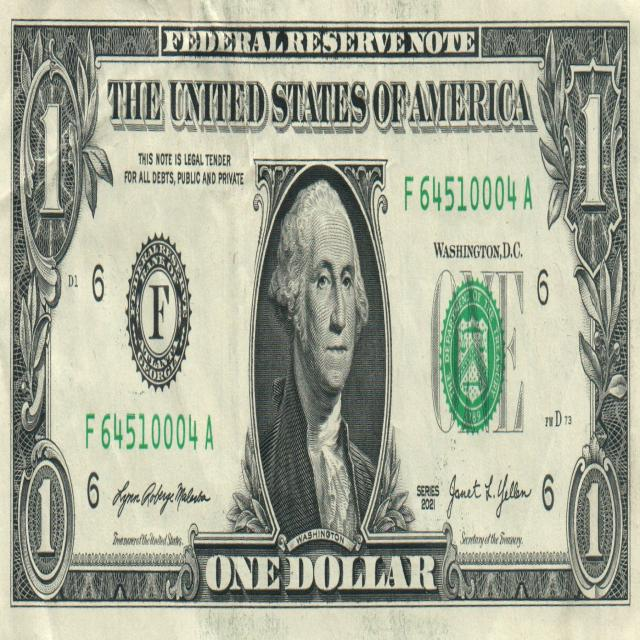SerialNumber: (405, 175, 532, 212), (86, 413, 198, 449)
